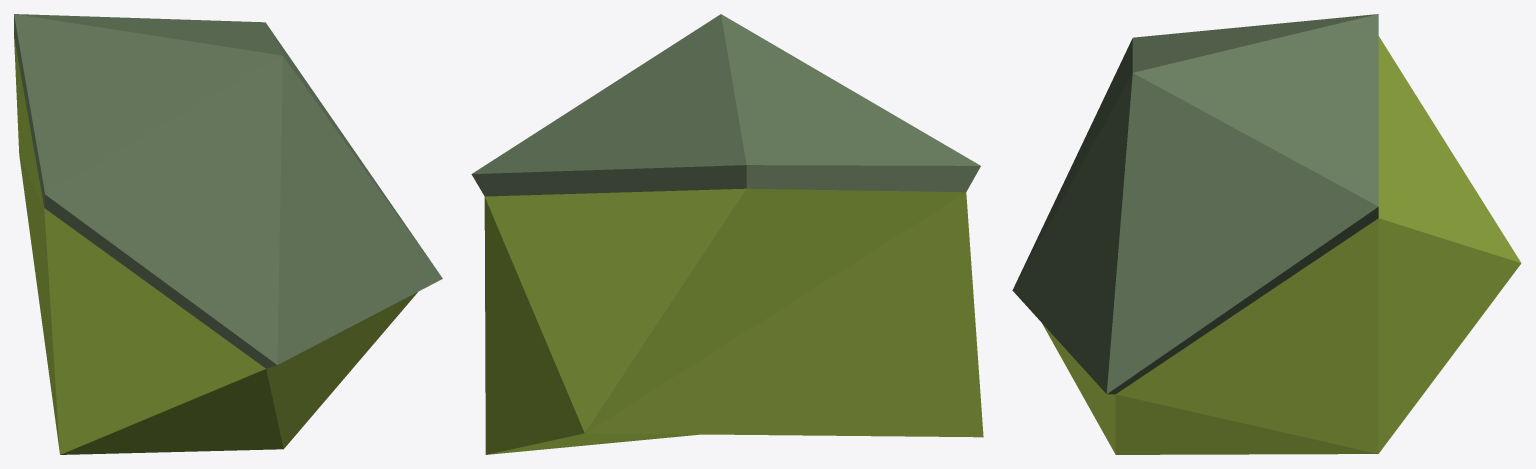
The model's file is Gib_0.fbx.
3 renders of one model, left to right at view 1: azimuth 30°, elevation 25°; view 2: azimuth 150°, elevation 25°; view 3: azimuth 270°, elevation 25°, orthographic. The views are drawn at different scales.
Visible parts, largest first — view 1: pPlatonic2; view 2: pPlatonic2; view 3: pPlatonic2.
Part boxes in pixels (x1,y1,x2,y2): pPlatonic2: (14,14,442,454); pPlatonic2: (471,14,983,454); pPlatonic2: (1012,14,1521,454).
Size of the model in its own units: 17.2 by 16.47 by 19.69.
